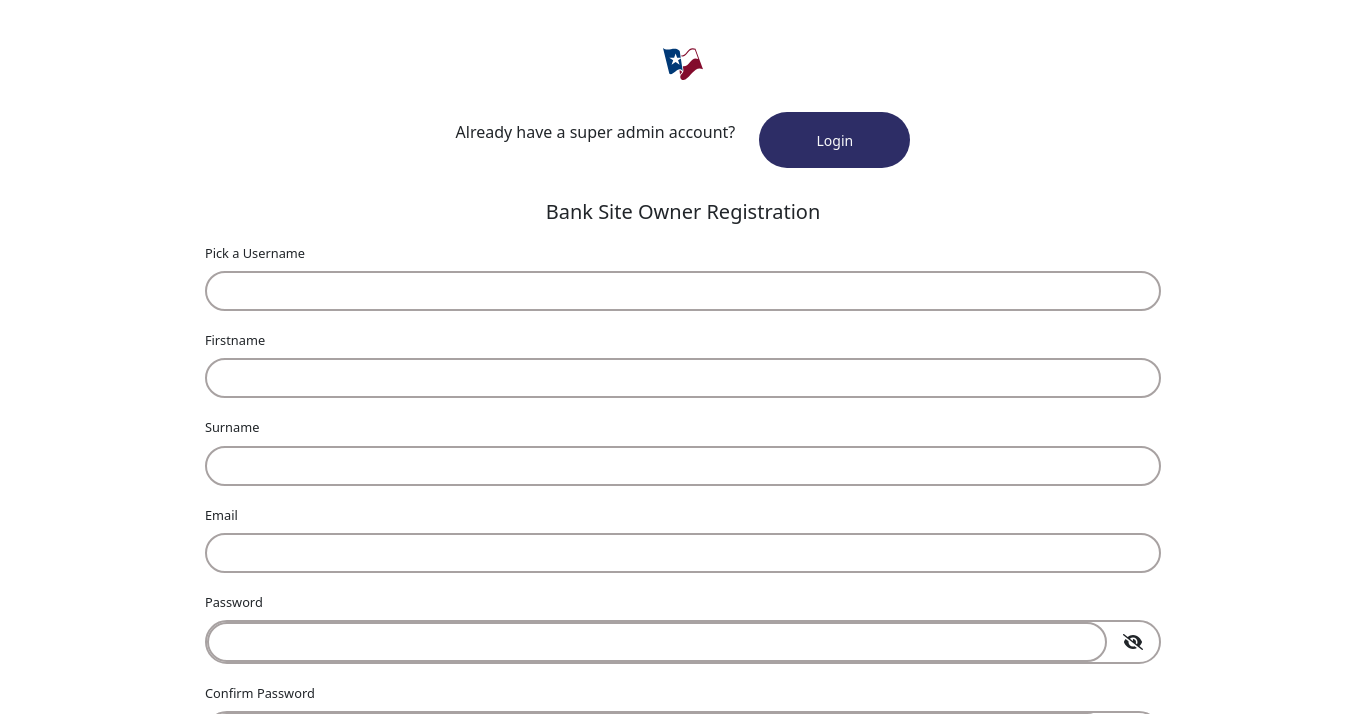
Super Admin Sign-Up and Email Verification Flow › should validate matching passwords
The width and height of the screenshot is (1366, 714).
Type "StrongPassword123" into the password field with test id "password-input" at (657, 642), box [207,622,1107,662]
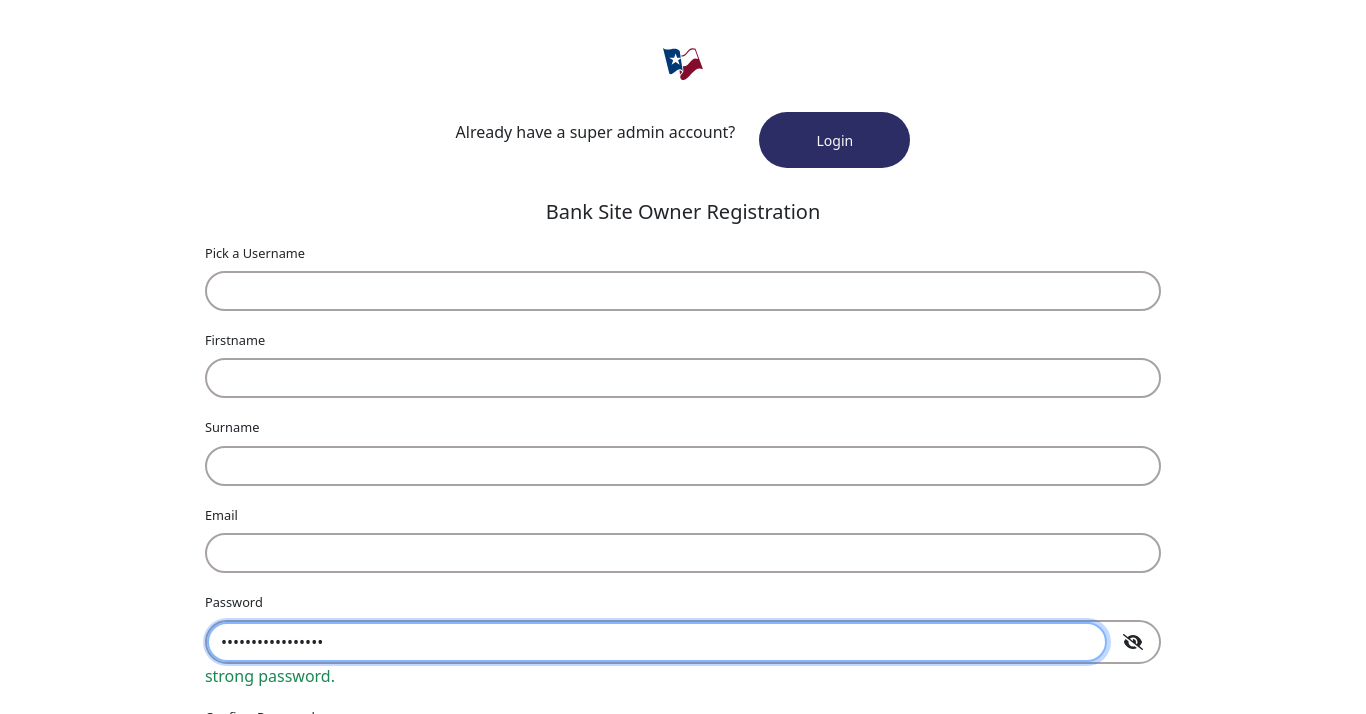
Scroll
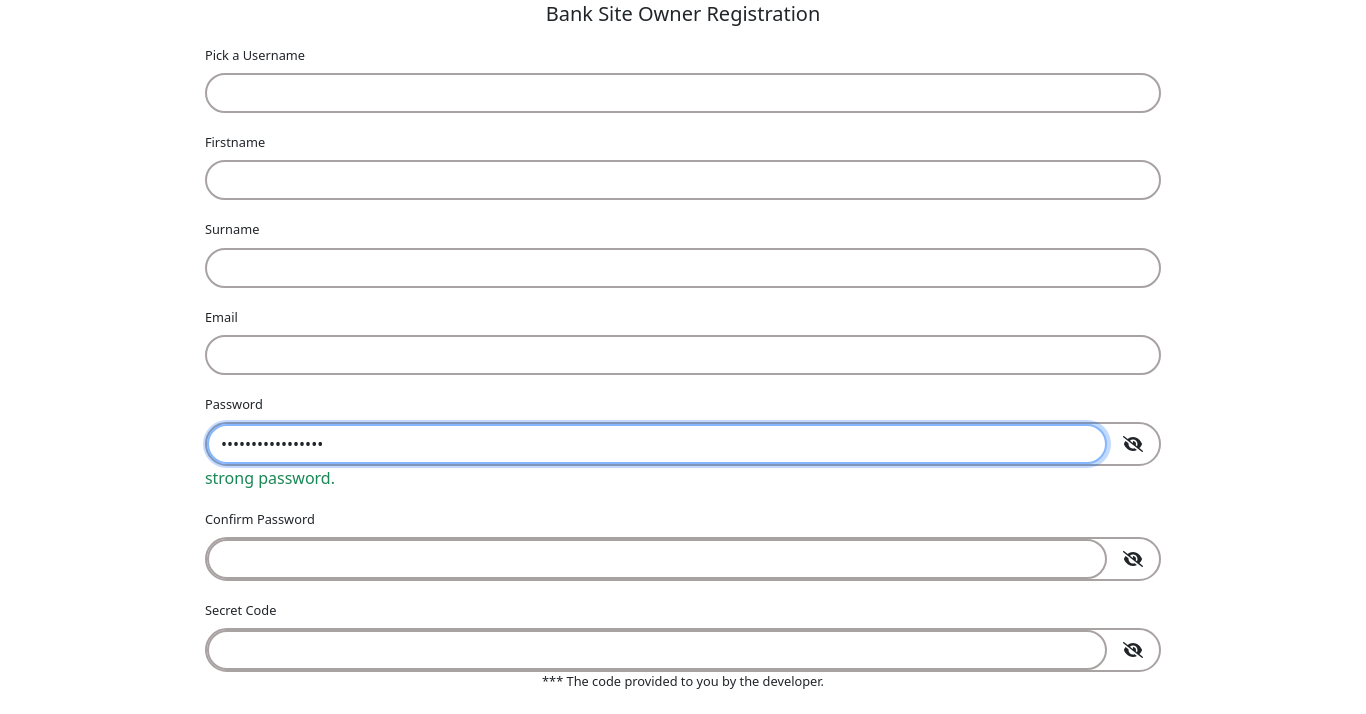
Type "DifferentPassword123" into the password field with test id "confirm-password-input" at (657, 559), box [207,539,1107,579]
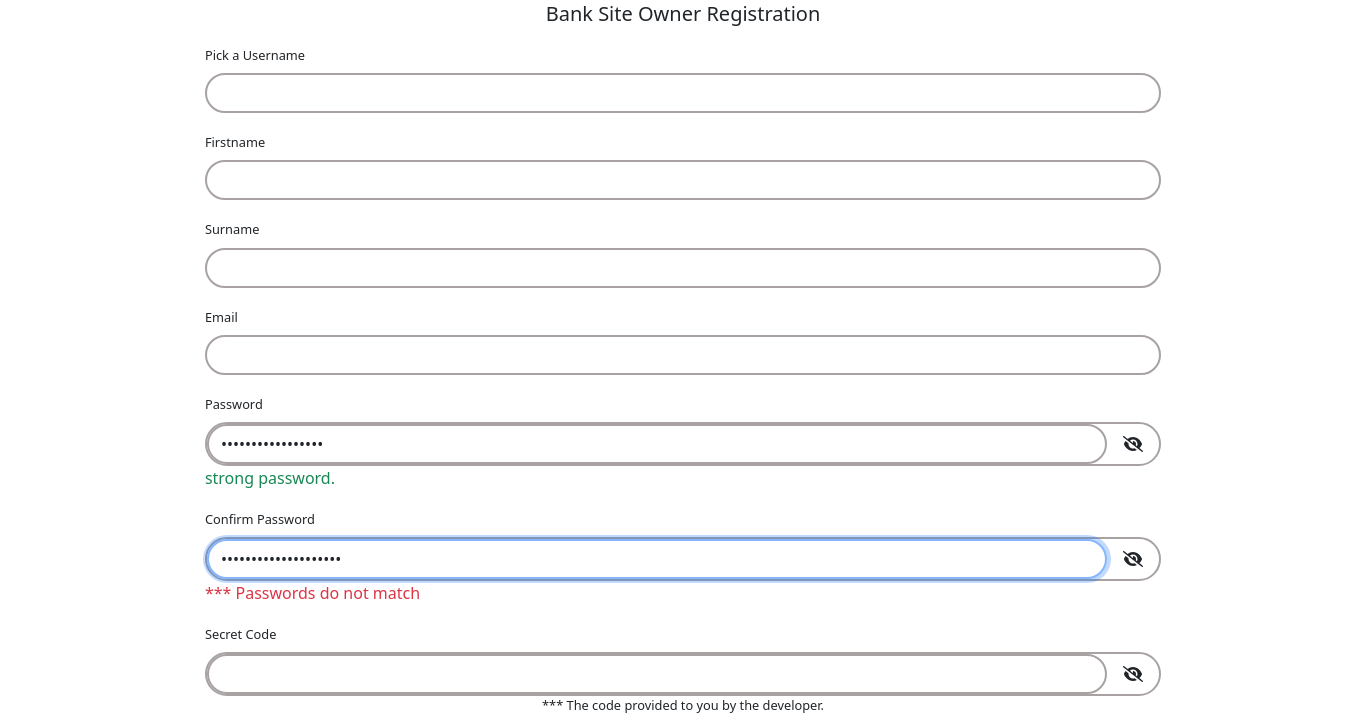
Now the text "*** Passwords do not match" is shown, box [205,582,420,604]
Type "StrongPassword123" into the password field with test id "confirm-password-input" at (657, 559), box [207,539,1107,579]
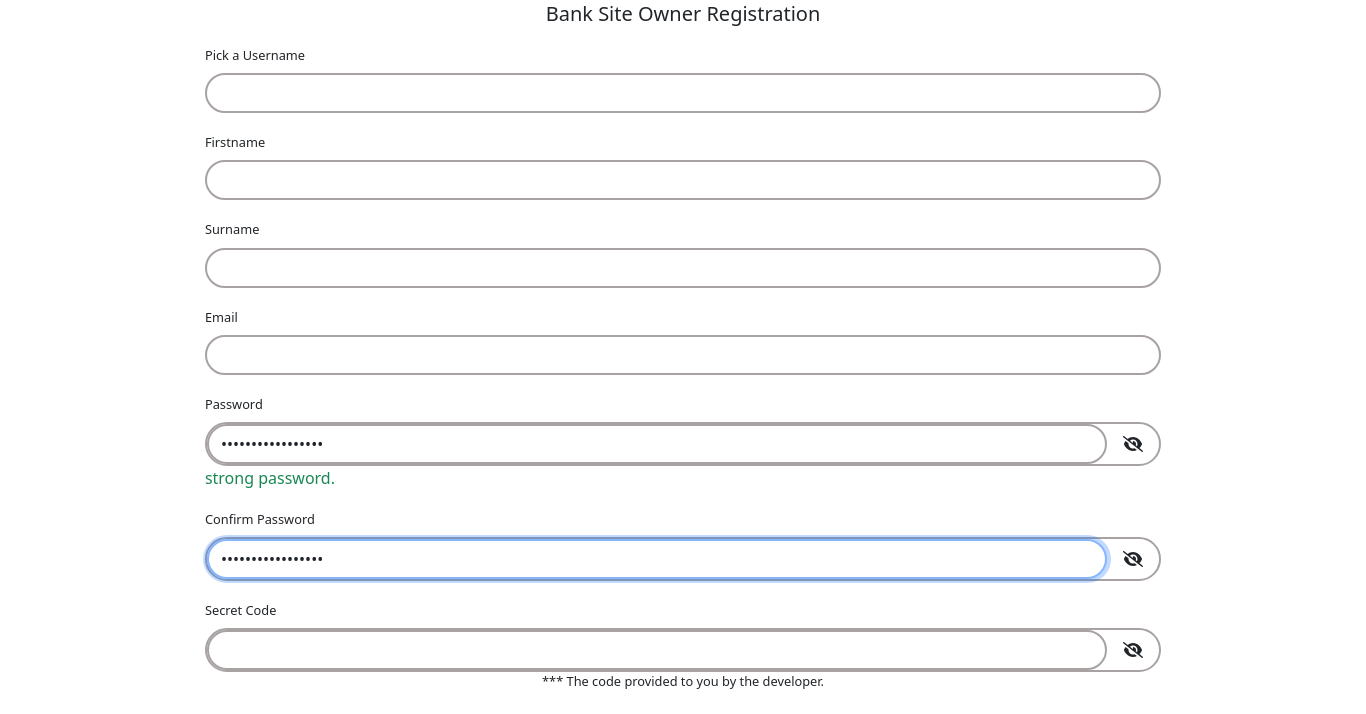
Now the text with test id "password-mismatch-error" is gone
